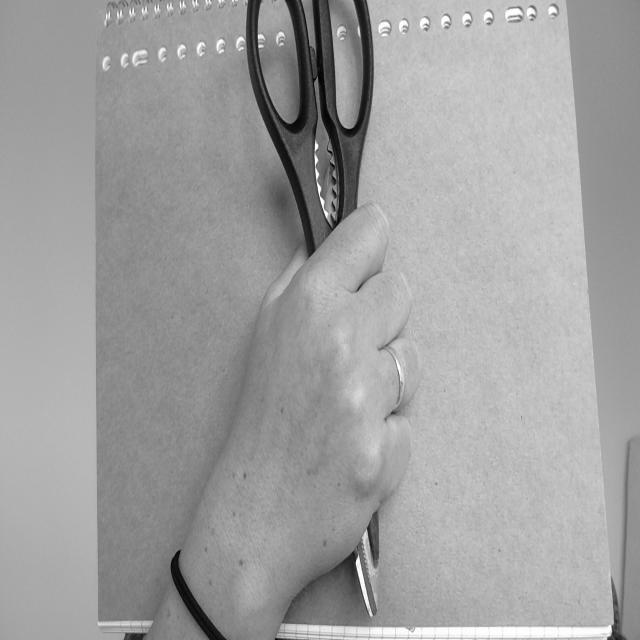scissor: (241, 1, 387, 230)
